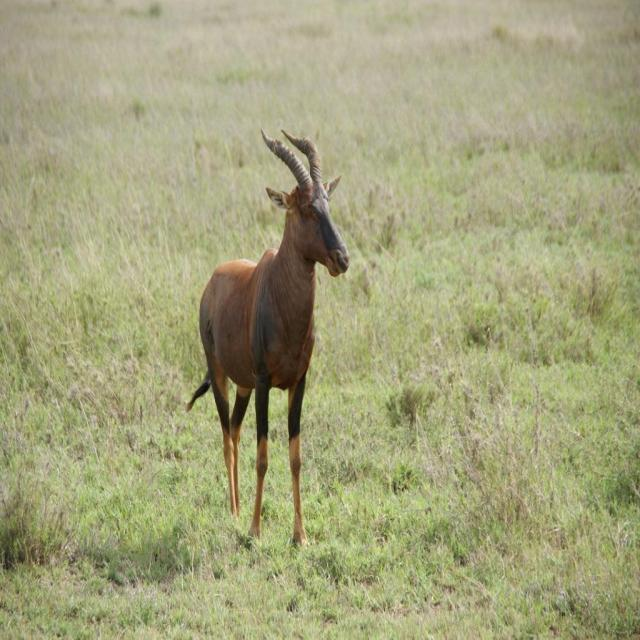Deer: (184, 127, 350, 547)
